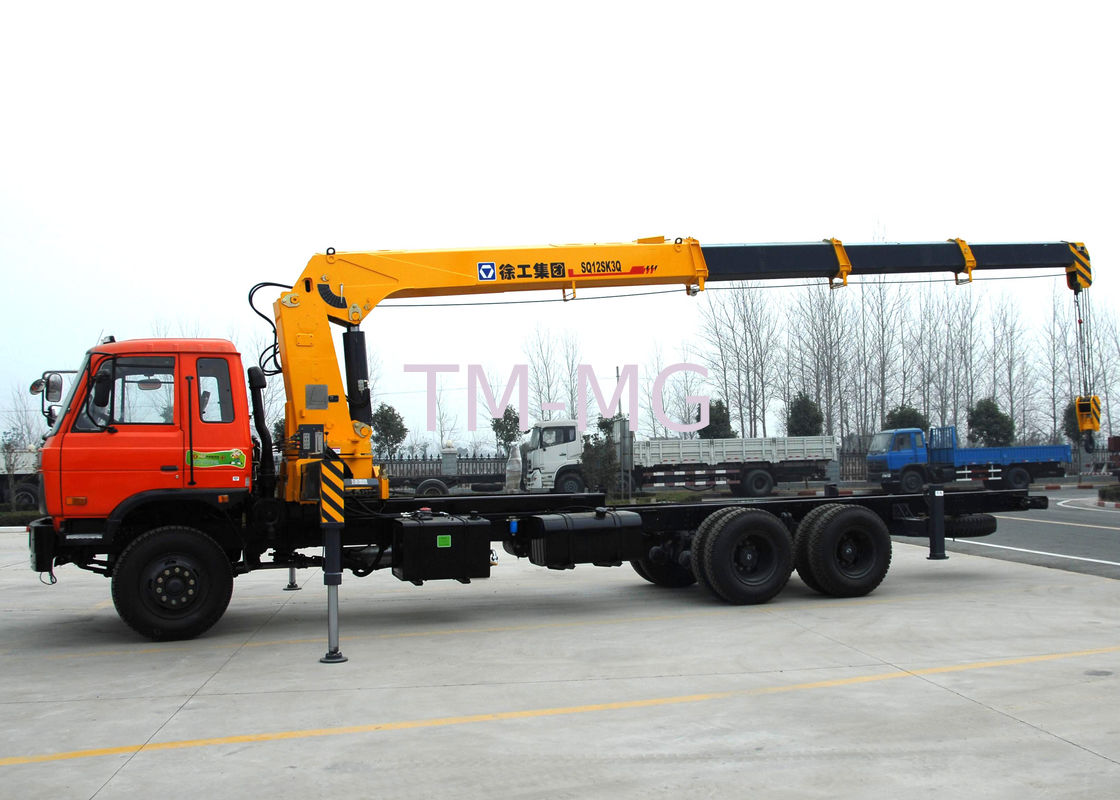crane: (10, 208, 1118, 639)
